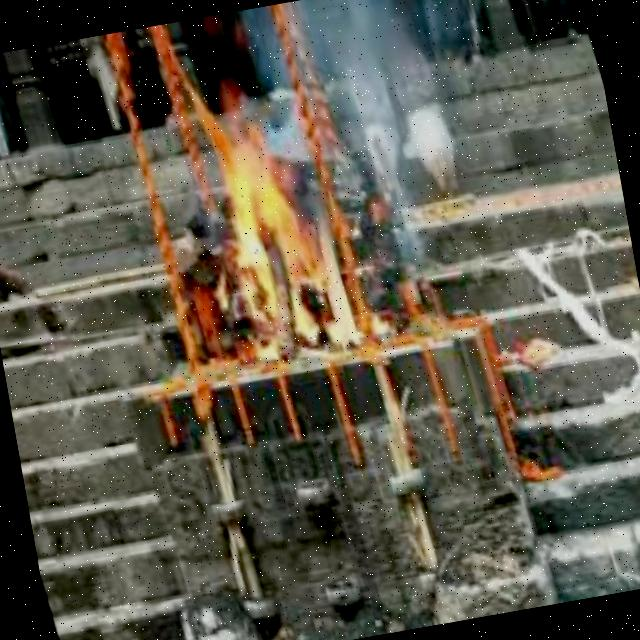fire: (190, 96, 368, 380)
